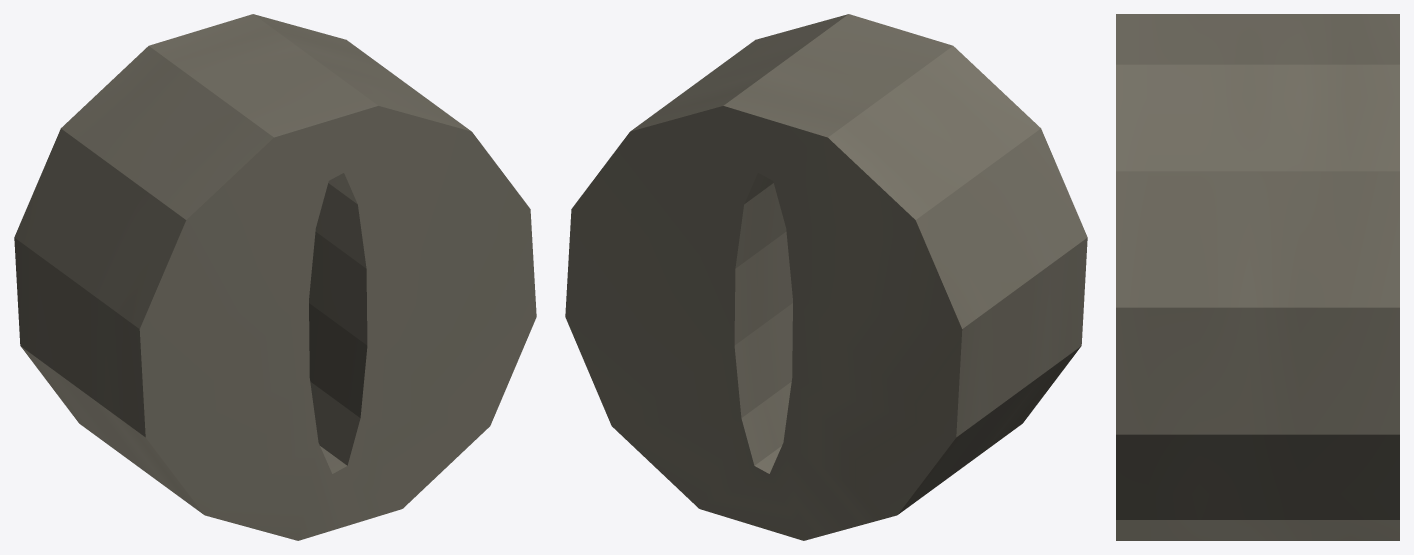
Rendered from eye.obj.
3 renders of one model, left to right at view 1: azimuth 30°, elevation 25°; view 2: azimuth 150°, elevation 25°; view 3: azimuth 270°, elevation 25°, orthographic. The views are drawn at different scales.
Visible parts, largest first — view 1: eye; view 2: eye; view 3: eye.
Boxes of the visible parts, x1,y1,x2,y2 form: eye: [14, 14, 536, 540]; eye: [565, 14, 1087, 540]; eye: [1116, 14, 1399, 540].
Bounding box in the file's own units: 0.2438 × 0.2439 × 0.1334.
1 material, 1 textured.
